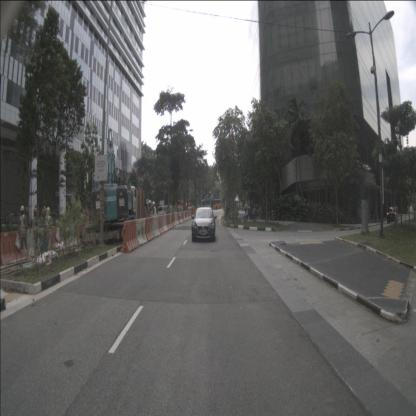barrier: (0, 229, 25, 266), (23, 227, 45, 260), (120, 220, 139, 253), (56, 223, 78, 250), (134, 218, 148, 246), (144, 217, 155, 242), (152, 216, 161, 237), (158, 215, 165, 235), (161, 214, 168, 232), (166, 214, 172, 230), (169, 213, 173, 228), (172, 212, 176, 226), (175, 212, 179, 225), (179, 211, 183, 223), (178, 212, 182, 224), (183, 211, 186, 222), (182, 212, 184, 223), (185, 211, 187, 221)
